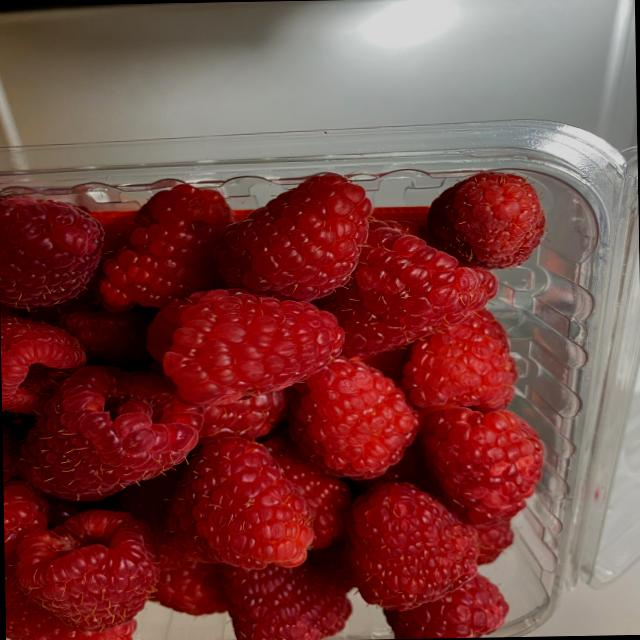raspberries: (17, 161, 577, 640)
